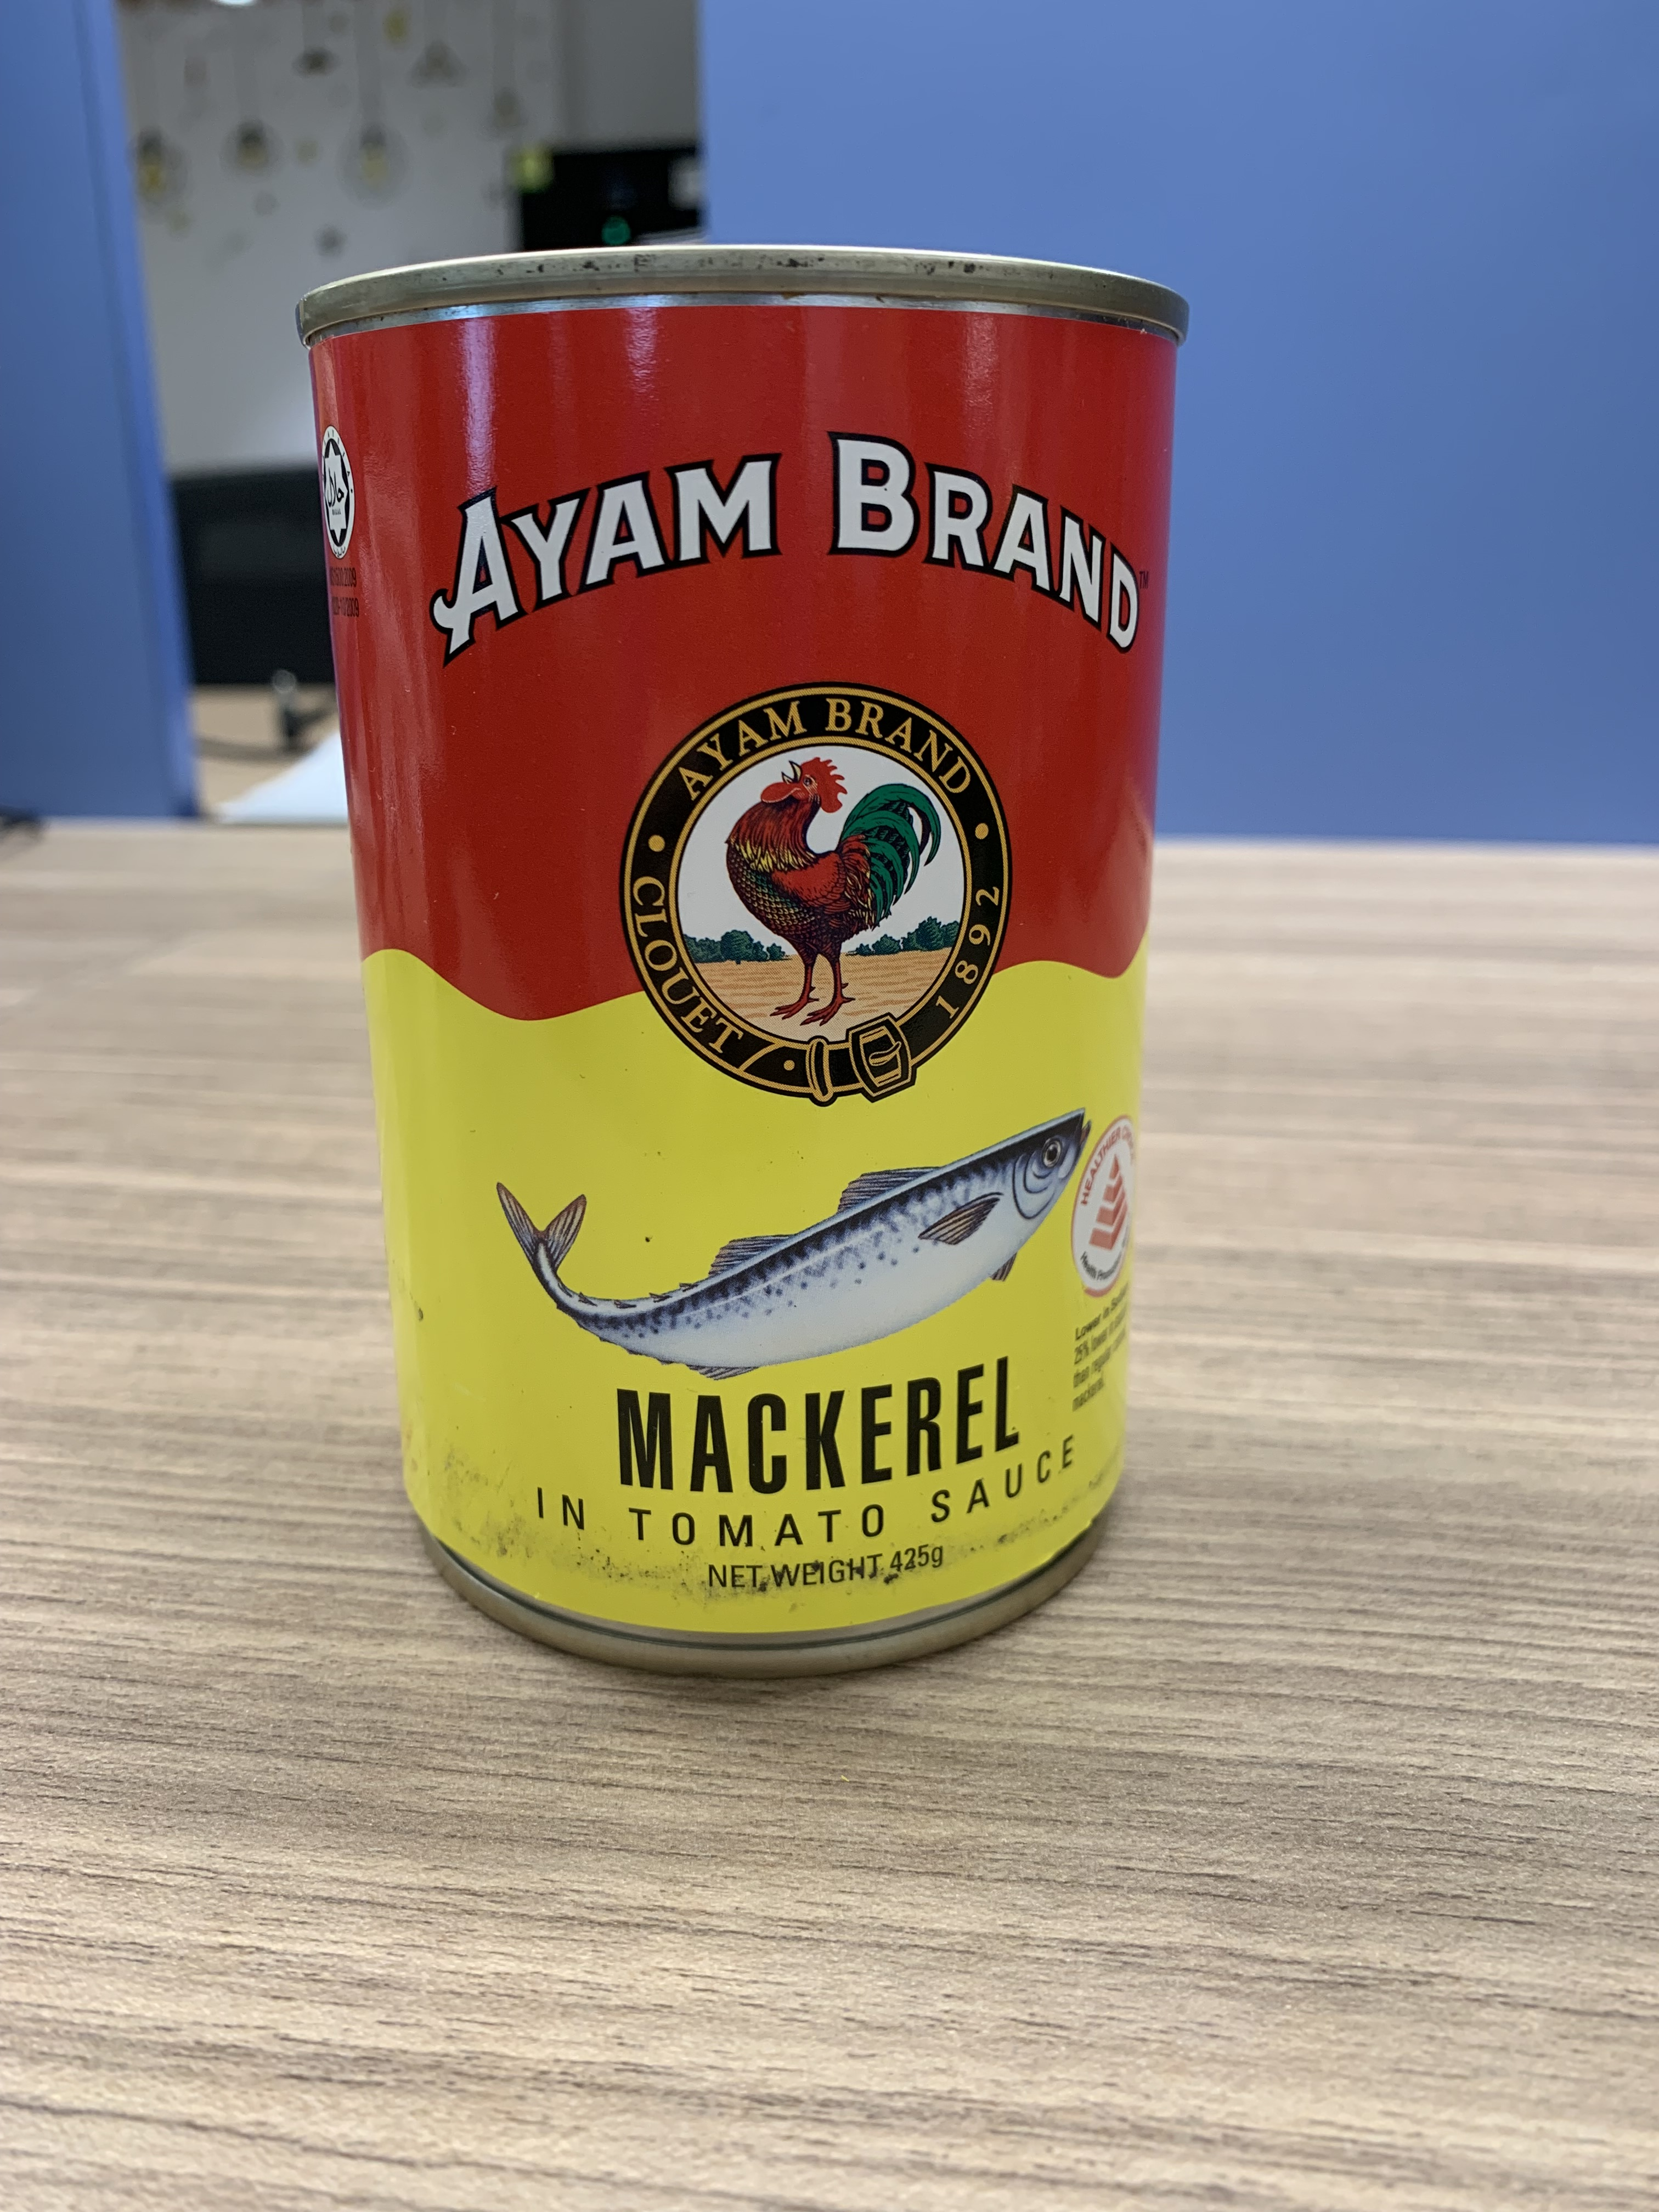sardines: (301, 228, 1204, 1686)
